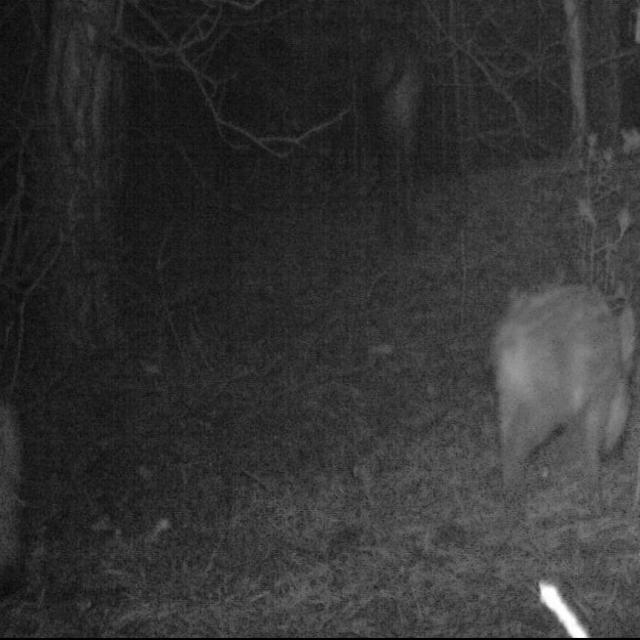pig: (479, 243, 635, 499)
